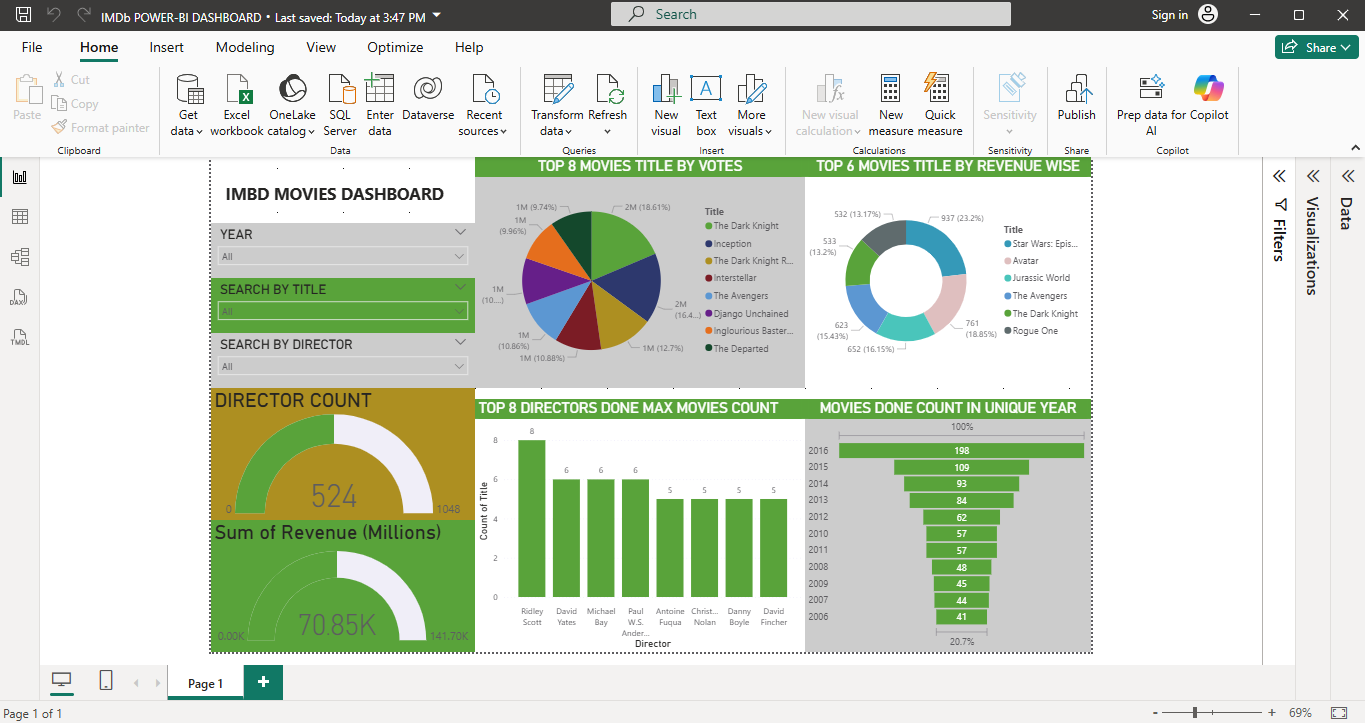

The page's visual inventory and layout, read from the dashboard file:
{"tool":"powerbi","page":{"name":"Page 1","canvas":[1280,720],"ordinal":0},"visuals":[{"type":"columnChart","title":"TOP 8 DIRECTORS DONE  MAX MOVIES COUNT","fields":{"Category":["IMDB-Movie-Data.Director"],"Y":["CountNonNull(IMDB-Movie-Data.Title)"]},"box":[384,352,480,368],"z":0},{"type":"pieChart","title":"TOP 8 MOVIES TITLE BY VOTES","fields":{"Category":["IMDB-Movie-Data.Title"],"Y":["Sum(IMDB-Movie-Data.Votes)"]},"box":[384,0,480,336],"z":1000},{"type":"donutChart","title":"TOP 6 MOVIES TITLE BY REVENUE WISE","fields":{"Category":["IMDB-Movie-Data.Title"],"Y":["Sum(IMDB-Movie-Data.Revenue (Millions))"]},"box":[864,0,416,336],"z":2000},{"type":"funnel","title":"MOVIES DONE COUNT IN UNIQUE YEAR","fields":{"Category":["IMDB-Movie-Data.Year"],"Y":["CountNonNull(IMDB-Movie-Data.Title)"]},"box":[864,352,416,368],"z":3000},{"type":"gauge","title":"DIRECTOR COUNT","fields":{"Y":["Count(IMDB-Movie-Data.Director)"]},"box":[0,336,384,192],"z":4000},{"type":"gauge","fields":{"Y":["Sum(IMDB-Movie-Data.Revenue (Millions))"]},"box":[0,528,384,192],"z":5000},{"type":"slicer","fields":{"Values":["IMDB-Movie-Data.Year"]},"box":[0,96,384,80],"z":6000},{"type":"slicer","fields":{"Values":["IMDB-Movie-Data.Director"]},"box":[0,256,384,80],"z":7000},{"type":"slicer","fields":{"Values":["IMDB-Movie-Data.Title"]},"box":[0,176,384,80],"z":8000},{"type":"textbox","box":[16,32,336,48],"z":9000}]}

Visuals, with their boxes on the page's 1280x720 design canvas (x1, y1, x2, y2). These are canvas units, not pixel positions in the 1365x723 screenshot, which may show the page scaled, cropped or inside an application window:
"TOP 8 DIRECTORS DONE  MAX MOVIES COUNT" columnChart: [384, 352, 864, 720]
"TOP 8 MOVIES TITLE BY VOTES" pieChart: [384, 0, 864, 336]
"TOP 6 MOVIES TITLE BY REVENUE WISE" donutChart: [864, 0, 1280, 336]
"MOVIES DONE COUNT IN UNIQUE YEAR" funnel: [864, 352, 1280, 720]
"DIRECTOR COUNT" gauge: [0, 336, 384, 528]
gauge - Sum(IMDB-Movie-Data.Revenue (Millions)): [0, 528, 384, 720]
slicer - IMDB-Movie-Data.Year: [0, 96, 384, 176]
slicer - IMDB-Movie-Data.Director: [0, 256, 384, 336]
slicer - IMDB-Movie-Data.Title: [0, 176, 384, 256]
textbox: [16, 32, 352, 80]
